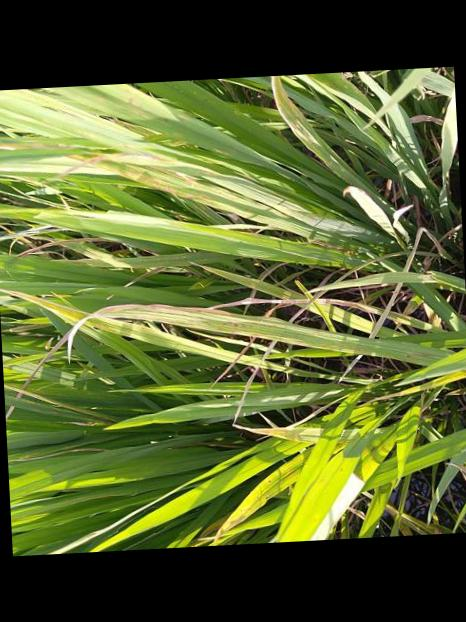Leaf Blight: (33, 141, 281, 224), (92, 304, 404, 362)
